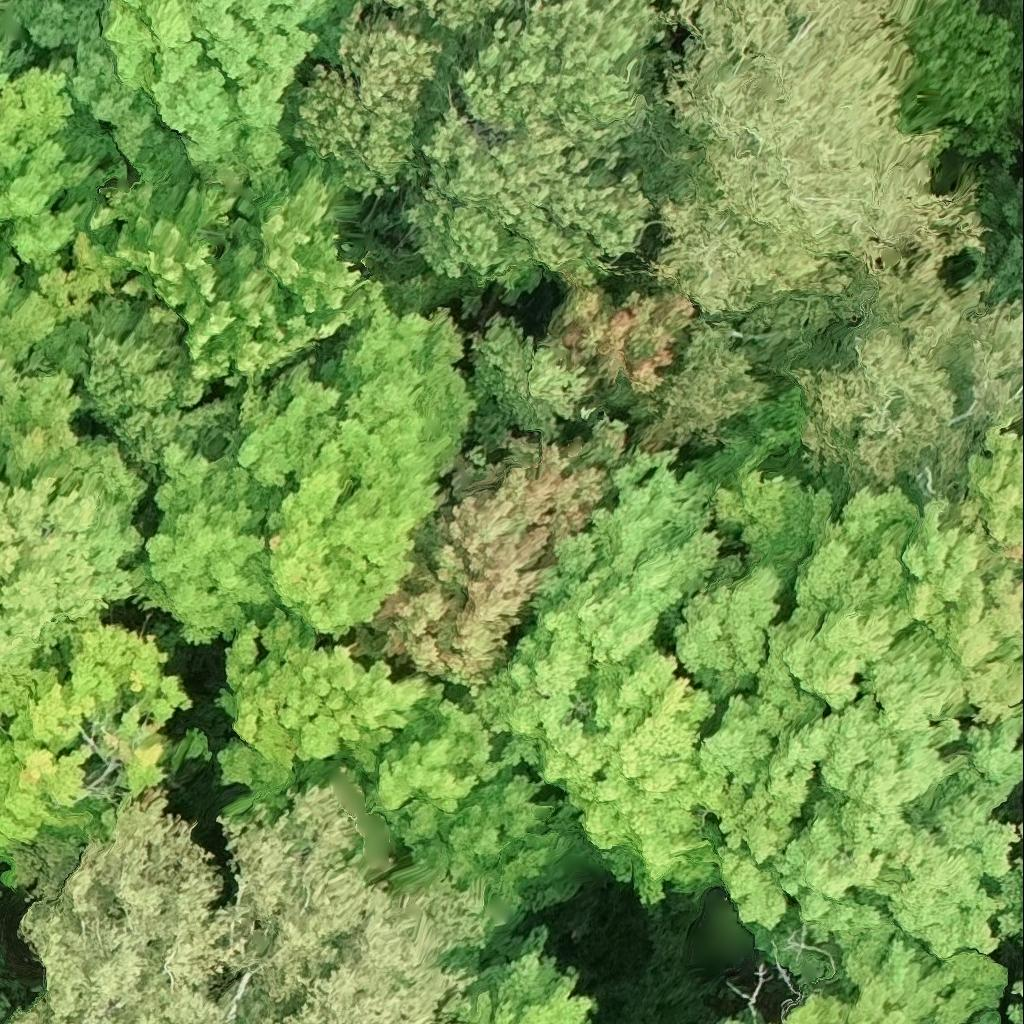crown: (667, 429, 1023, 969), (455, 446, 772, 900), (6, 769, 495, 1023), (137, 307, 473, 646), (0, 244, 183, 857), (214, 610, 579, 910), (346, 414, 626, 686), (7, 0, 358, 196), (0, 244, 142, 677), (769, 943, 1009, 1023), (0, 62, 92, 266), (442, 929, 592, 1023), (722, 1019, 742, 1023)
